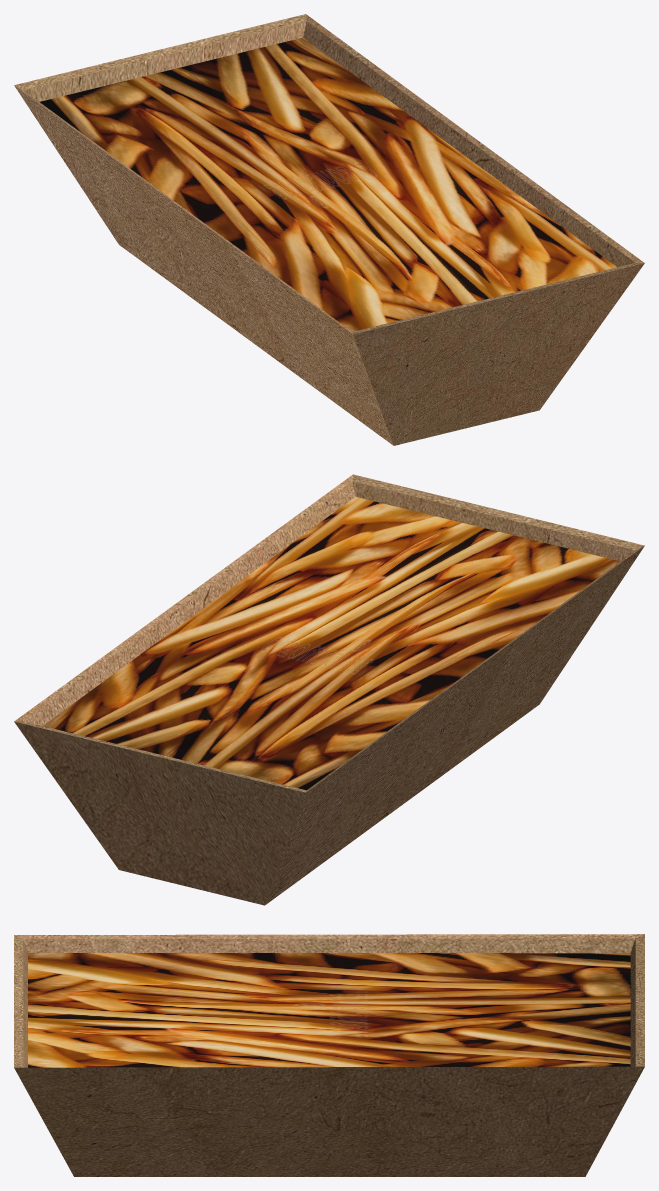
File: bakkiepatat.fbx
3 renders of one model, top to bottom at view 1: azimuth 30°, elevation 25°; view 2: azimuth 150°, elevation 25°; view 3: azimuth 270°, elevation 25°, orthographic. The views are drawn at different scales.
Visible parts, largest first — view 1: Cube; view 2: Cube; view 3: Cube.
Boxes of the visible parts, x1,y1,x2,y2 form: Cube: (14, 14, 644, 445); Cube: (14, 474, 644, 905); Cube: (14, 934, 644, 1176).
Bounding box in the file's own units: 0.138 × 0.0696 × 0.2776.
